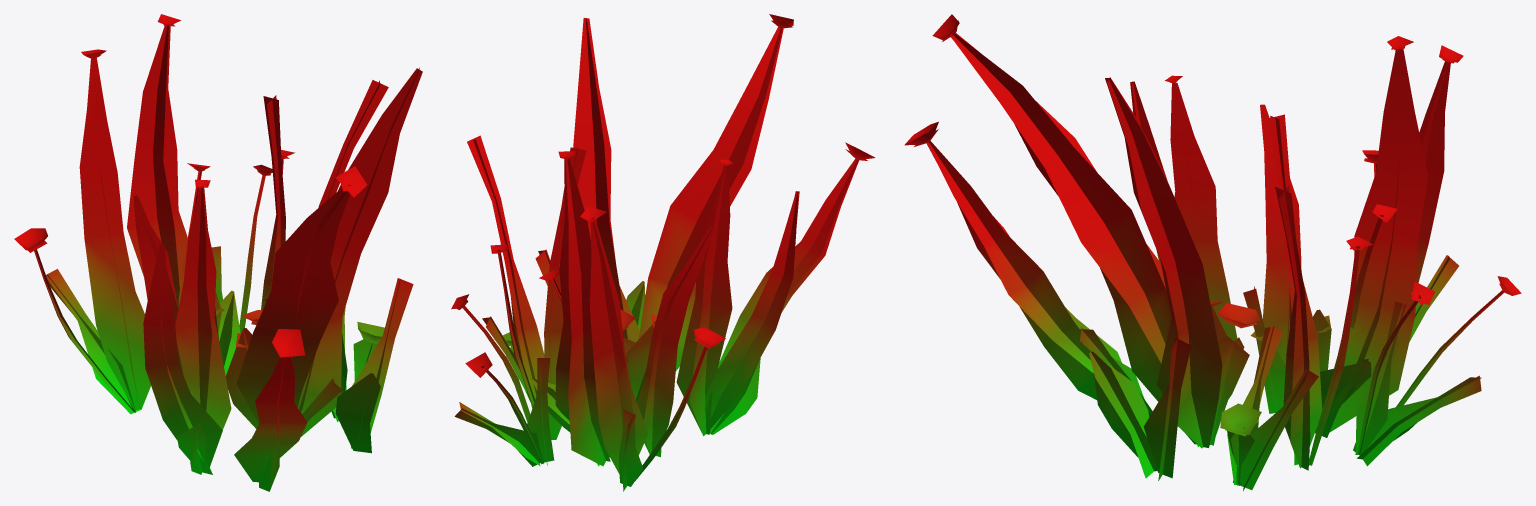
The model's file is White Everlasting_LOD3_Var5_ucvobbbia.fbx.
3 renders of one model, left to right at view 1: azimuth 30°, elevation 25°; view 2: azimuth 150°, elevation 25°; view 3: azimuth 270°, elevation 25°, orthographic. The views are drawn at different scales.
Visible parts, largest first — view 1: _7a5d_Var5_LOD3; view 2: _7a5d_Var5_LOD3; view 3: _7a5d_Var5_LOD3.
Boxes of the visible parts, left/top/right/bottom form: _7a5d_Var5_LOD3: left=14, top=14, right=422, bottom=491; _7a5d_Var5_LOD3: left=451, top=14, right=875, bottom=491; _7a5d_Var5_LOD3: left=904, top=14, right=1521, bottom=491.
Size of the model in its own units: 34 by 39.69 by 52.62.
